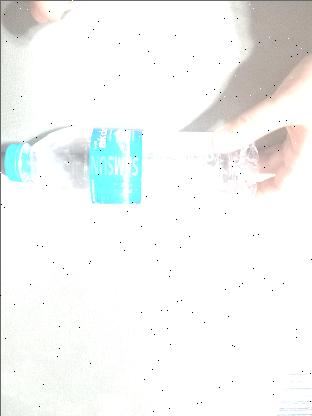Plastic Bottle: (0, 119, 266, 209)
